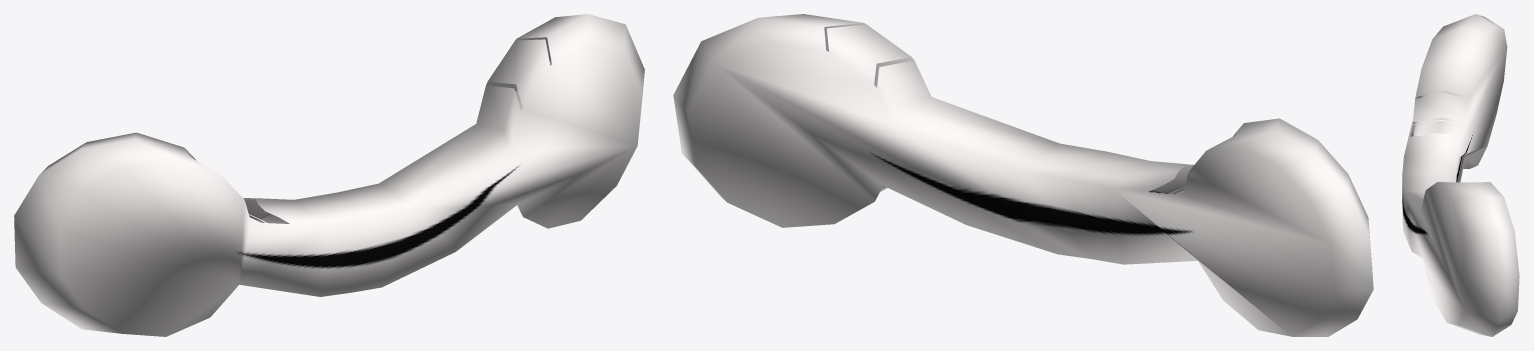
Rendered from mouth_02.fbx.
3 renders of one model, left to right at view 1: azimuth 30°, elevation 25°; view 2: azimuth 150°, elevation 25°; view 3: azimuth 270°, elevation 25°, orthographic. The views are drawn at different scales.
Visible parts, largest first — view 1: Mouth_02; view 2: Mouth_02; view 3: Mouth_02.
Part boxes in pixels (<box>): Mouth_02: <box>14,14,644,336</box>; Mouth_02: <box>673,14,1373,336</box>; Mouth_02: <box>1402,14,1519,336</box>.
Bounding box in the file's own units: 70.19 × 19.68 × 14.73.
